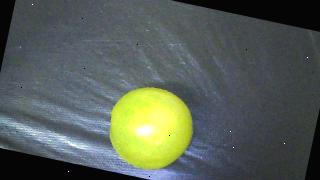LOCAL: (102, 80, 201, 177)
